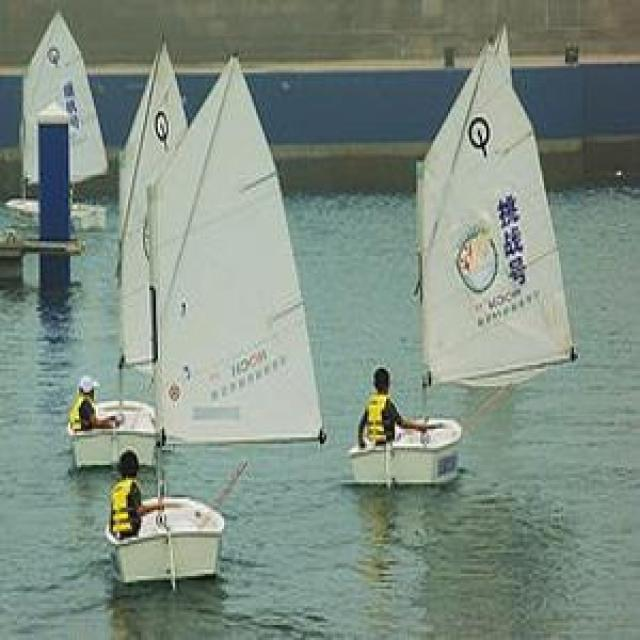sailboat: (76, 87, 310, 574), (352, 34, 572, 502), (35, 39, 179, 466), (8, 14, 110, 251)
